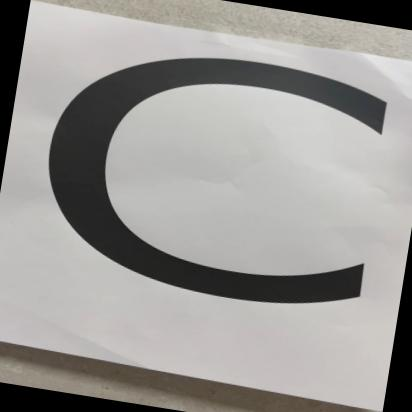seat: (0, 0, 412, 400)
